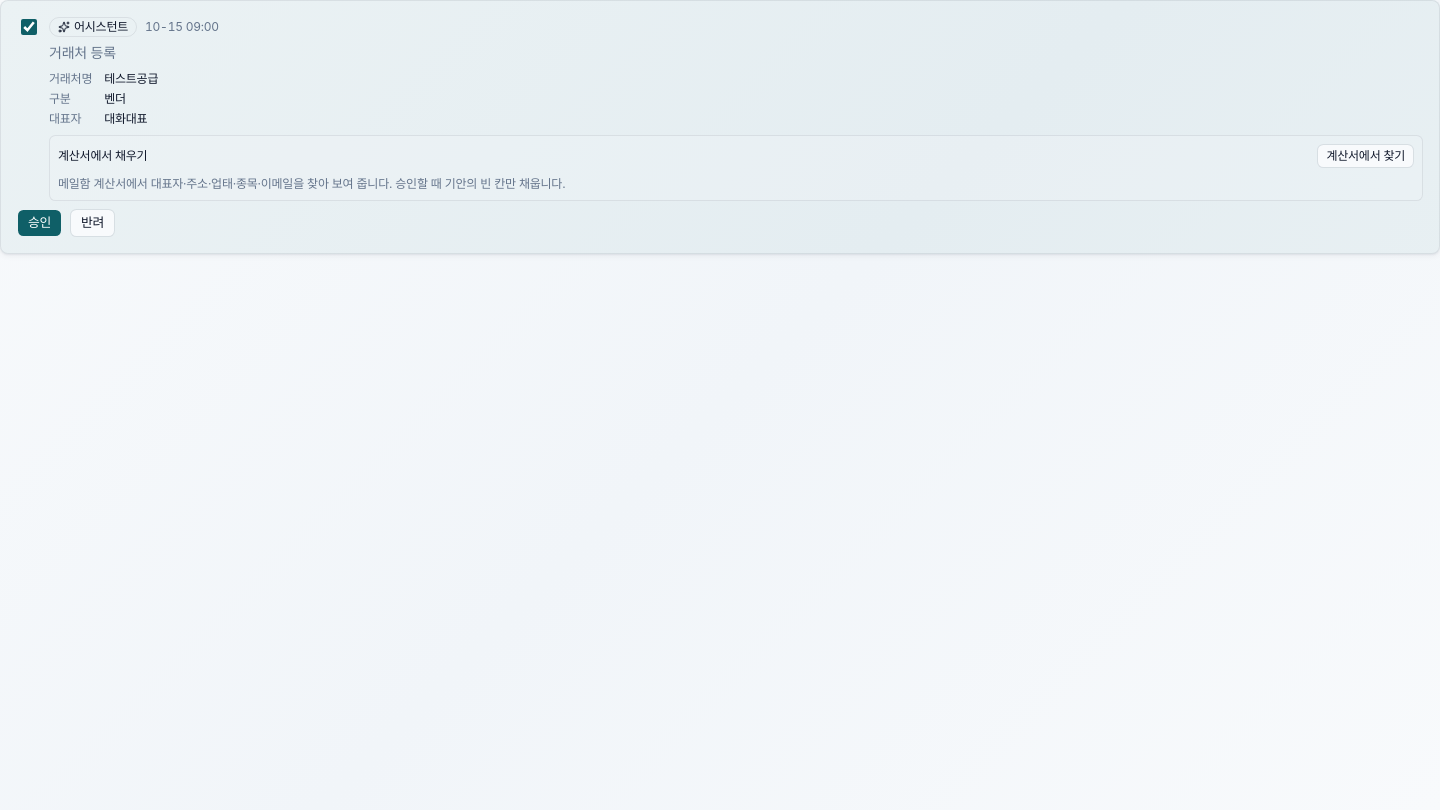
Test: PendingCard — 거래처 등록 기안 › 계산서 값을 저장하기로 한 카드는 일괄 선택에서 빠진다(일괄 승인은 그 값을 싣지 않는다)
The width and height of the screenshot is (1440, 810).
Click the button "계산서에서 찾기": (1366,156) left=1317, top=144, right=1414, bottom=168
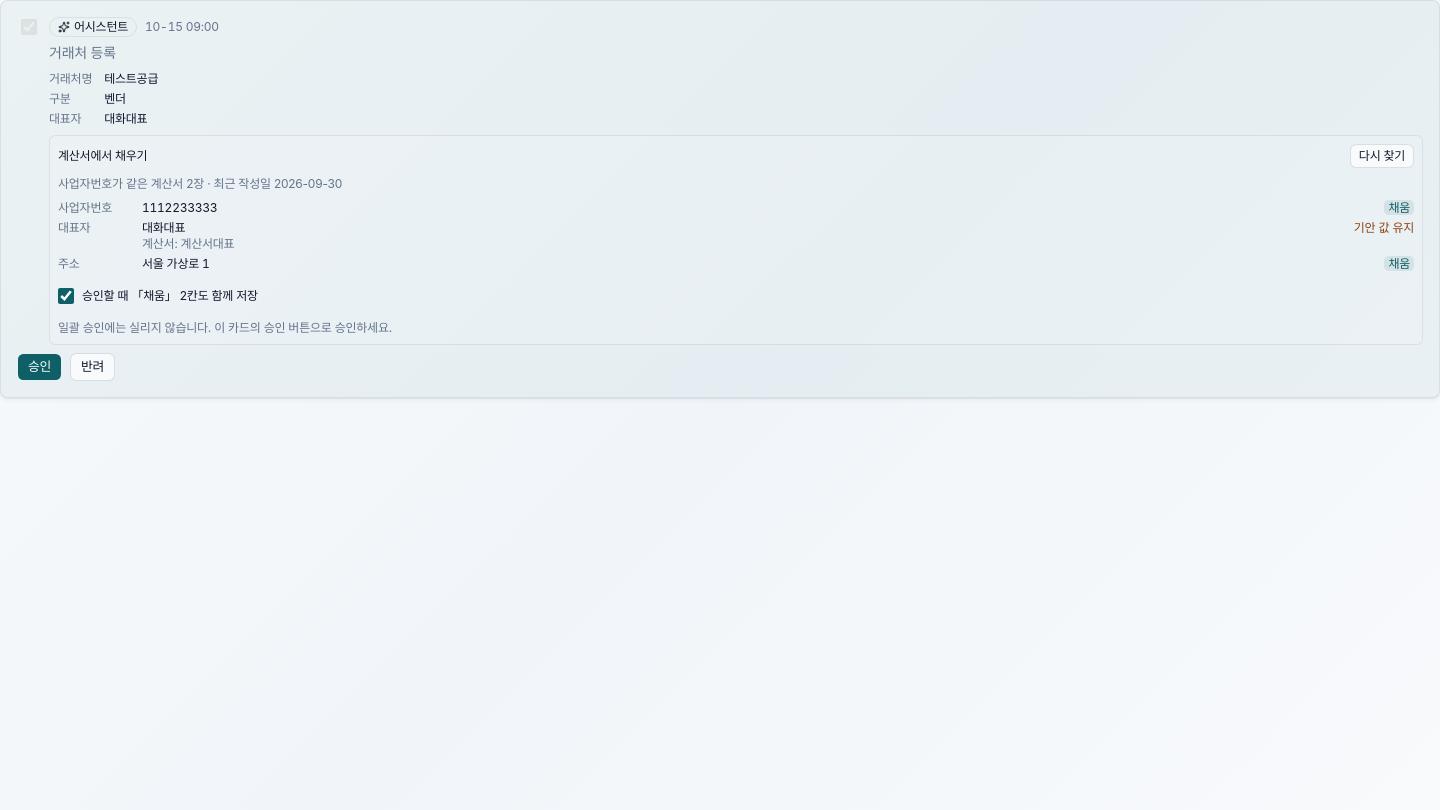
Check: the text "서울 가상로 1" is shown, box left=142, top=256, right=210, bottom=271
Check: the text "일괄 승인에는 실리지 않습니다. 이 카드의 승인 버튼으로 승인하세요." is shown, box left=58, top=320, right=392, bottom=335
